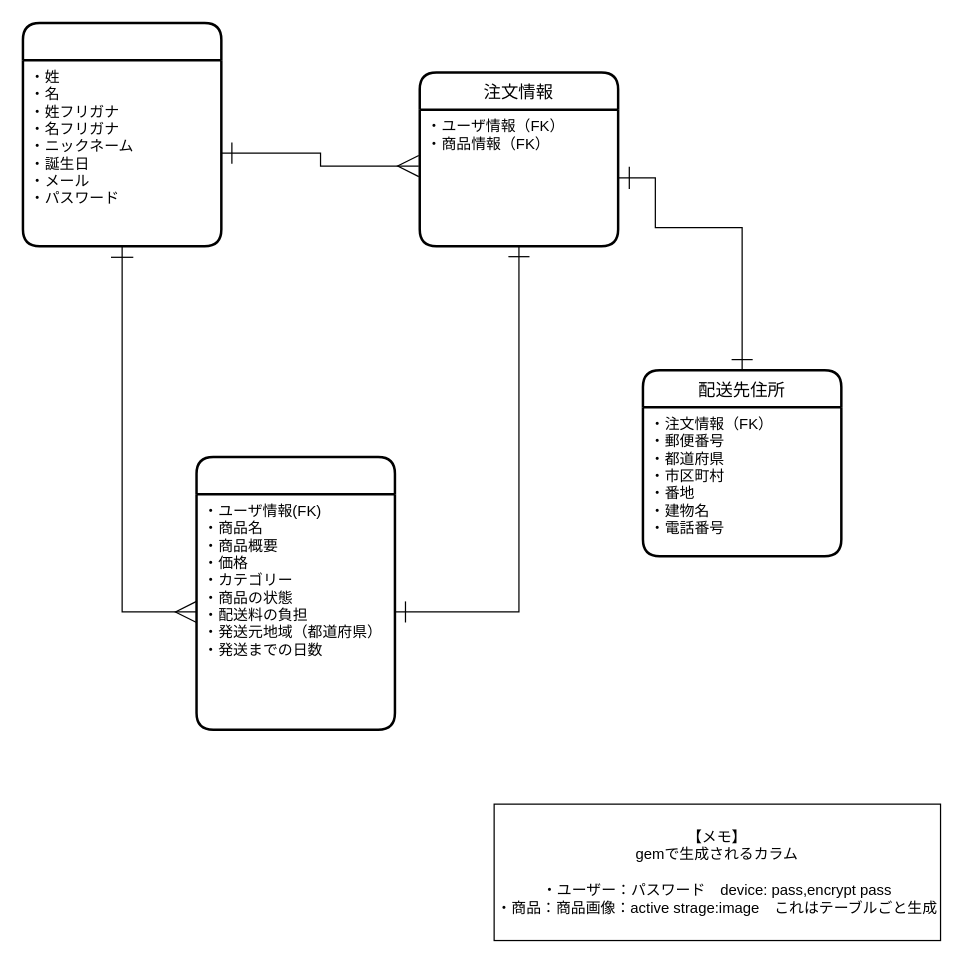
The diagram is 962 pixels wide and 962 high, and some of its shapes have lost their labels. Here are the shapes that lost their labels. From the top down, the box of each, then its label:
(21, 21, 222, 247): ユーザー
(195, 455, 396, 730): 商品
